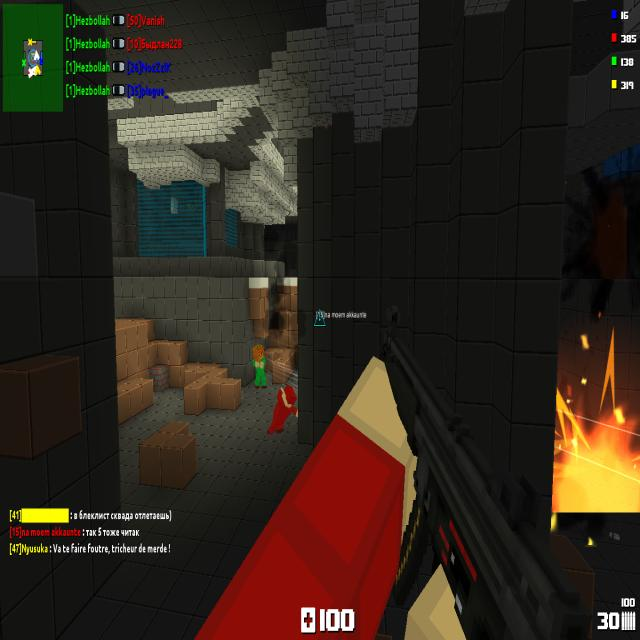enemy: (252, 344, 267, 389)
